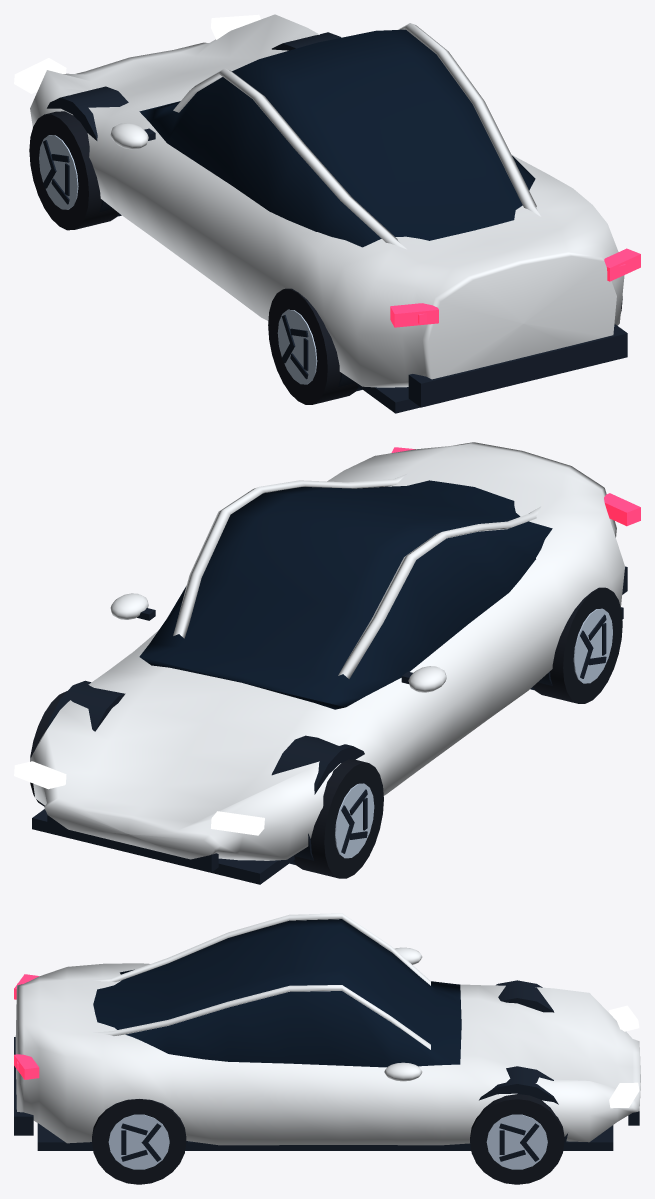
Rendered from car-3d.glb.
3 renders of one model, top to bottom at view 1: azimuth 30°, elevation 25°; view 2: azimuth 150°, elevation 25°; view 3: azimuth 270°, elevation 25°, orthographic. The views are drawn at different scales.
Parts seen in each view (by area): view 1: Body, Glass, TrimRearDiffuser, WheelsTire_WheelFL, WheelsTire_WheelRL, BodyRoofRailL, BodyRoofRailR, TrimWell_WheelFL, WheelsRim_WheelRL, WheelsRim_WheelFL, TaillightsL, TrimUnderbody (+4 smaller); view 2: Body, Glass, WheelsTire_WheelFL, WheelsTire_WheelRL, BodyRoofRailR, BodyRoofRailL, TrimWell_WheelFL, TrimUnderbody, TrimFrontGrille, WheelsRim_WheelFL, WheelsRim_WheelRL, TrimWell_WheelFR (+5 smaller); view 3: Body, Glass, WheelsTire_WheelFR, WheelsTire_WheelRR, TrimUnderbody, BodyRoofRailR, WheelsRim_WheelFR, WheelsRim_WheelRR, BodyRoofRailL, TrimWell_WheelFR, TrimWell_WheelFL, TrimRearDiffuser (+4 smaller).
Boxes of the visible parts, x1,y1,x2,y2 form: Body: (30,14,624,387); Glass: (139,29,535,247); TrimRearDiffuser: (408,324,627,407); WheelsTire_WheelFL: (29,111,118,230); WheelsTire_WheelRL: (268,288,358,404); BodyRoofRailL: (173,68,406,249); BodyRoofRailR: (398,23,540,216); TrimWell_WheelFL: (47,86,128,216); WheelsRim_WheelRL: (277,309,317,384); WheelsRim_WheelFL: (39,135,78,209); TaillightsL: (390,303,438,327); TrimUnderbody: (357,384,420,413); Body: (30,442,624,860); Glass: (139,480,552,709); WheelsTire_WheelFL: (293,759,383,878); WheelsTire_WheelRL: (533,587,622,703); BodyRoofRailR: (173,474,406,638); BodyRoofRailL: (338,506,540,678); TrimWell_WheelFL: (271,735,364,864); TrimUnderbody: (32,607,623,884); TrimFrontGrille: (47,815,218,872); WheelsRim_WheelFL: (335,783,374,858); WheelsRim_WheelRL: (573,608,612,683); TrimWell_WheelFR: (47,680,125,731); Body: (15,963,640,1145); Glass: (93,919,461,1067); WheelsTire_WheelFR: (470,1094,564,1184); WheelsTire_WheelRR: (92,1099,186,1184); TrimUnderbody: (37,1123,613,1150); BodyRoofRailR: (93,985,430,1049); WheelsRim_WheelFR: (486,1114,547,1169); WheelsRim_WheelRR: (108,1114,169,1169); BodyRoofRailL: (93,913,430,985); TrimWell_WheelFR: (469,1066,567,1149); TrimWell_WheelFL: (496,980,554,1012); TrimRearDiffuser: (14,1037,33,1135).
Bounding box in the file's own units: 2.16 × 1.44 × 4.51.
